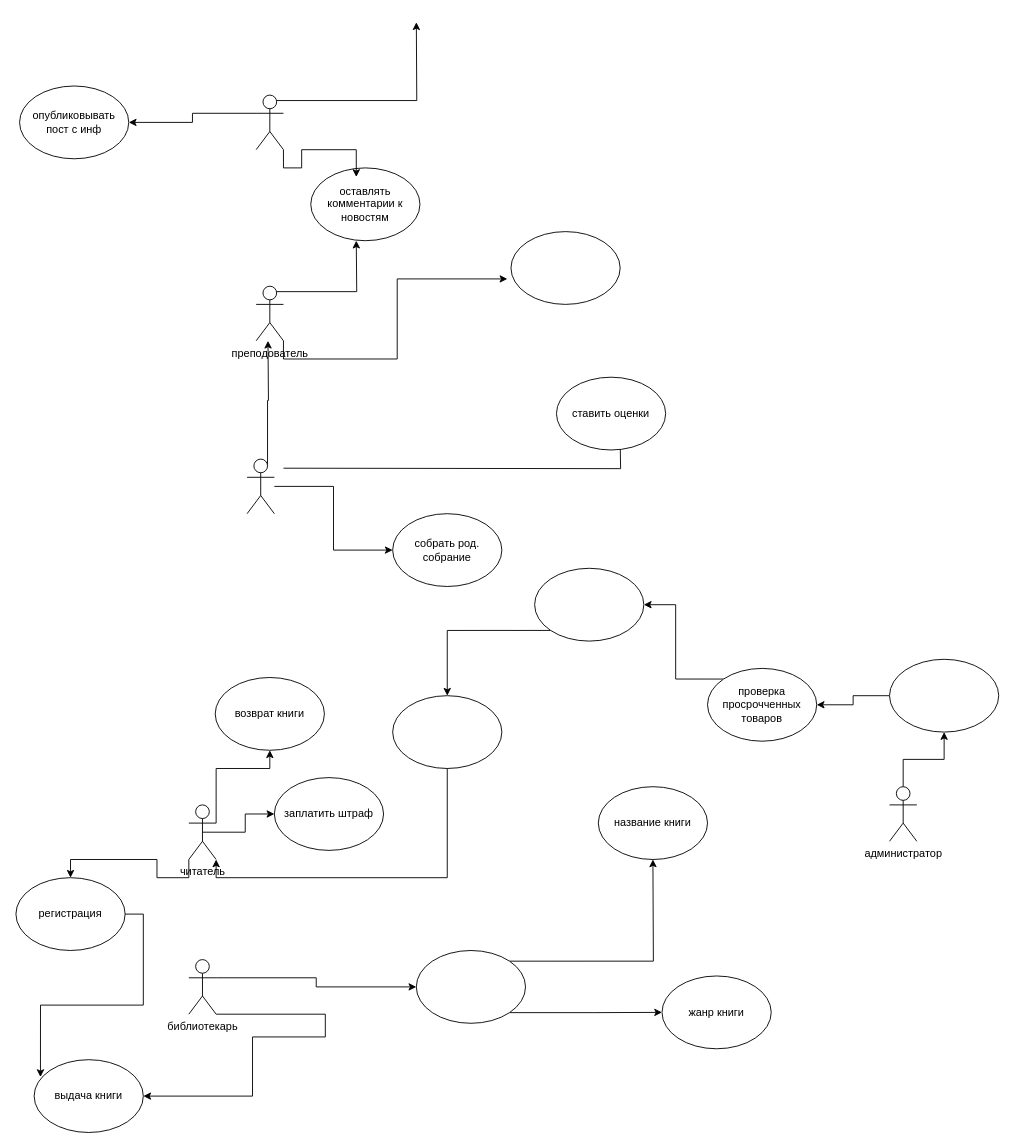
The diagram is 1015 pixels wide and 1148 high, and some of its shapes have lost their labels. The centre of each missing label's shape, as x and y in pixels:
"вход в учёт запись" belongs at (944,695).
"зам. директора" belongs at (269,122).
"кл. рук" belongs at (260,486).
"поиск книги" belongs at (470,986).
"получить сообщение о просрочке" belongs at (447,731).
"просрочить товар" belongs at (589,604).
"разместить материал" belongs at (565,267).
